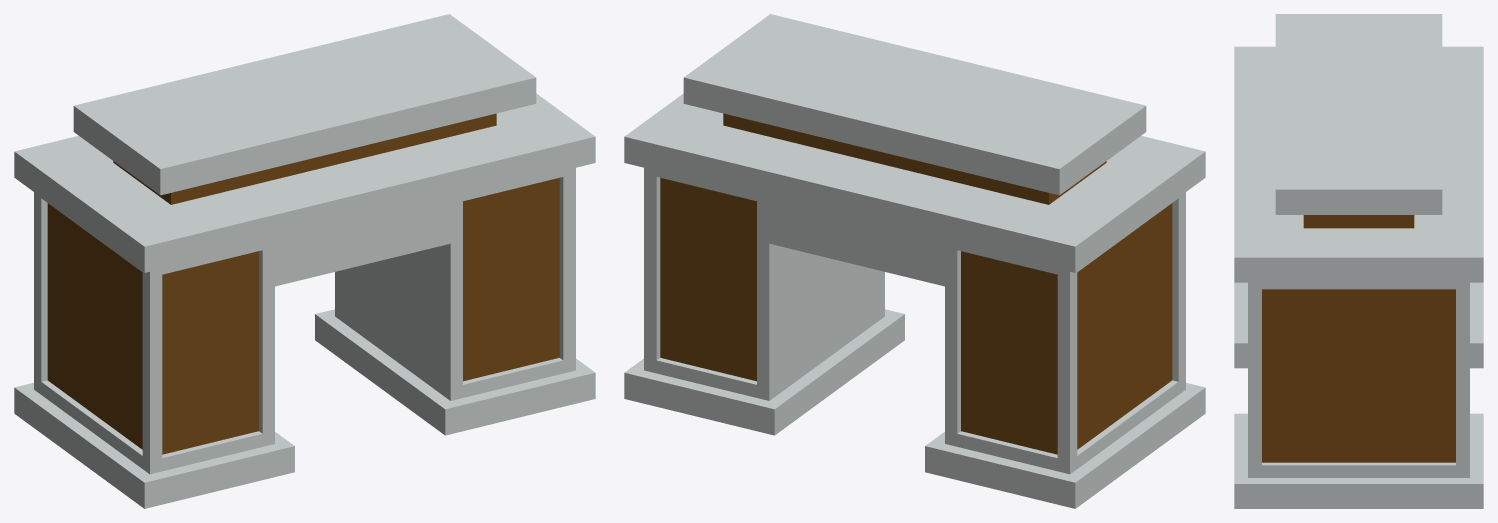
Rendered from MetalCraft.fbx.
3 views of the same model, side by side, from view 1: azimuth 30°, elevation 25°; view 2: azimuth 150°, elevation 25°; view 3: azimuth 270°, elevation 25° (orthographic). The views are drawn at different scales.
Parts seen in each view (by area): view 1: MetalCraft; view 2: MetalCraft; view 3: MetalCraft.
Part boxes in pixels (box(x1,y1,x2,y2)): MetalCraft: box(14, 14, 595, 508); MetalCraft: box(624, 14, 1205, 508); MetalCraft: box(1234, 14, 1483, 508).
Bounding box in the file's own units: 180 × 120 × 90.
